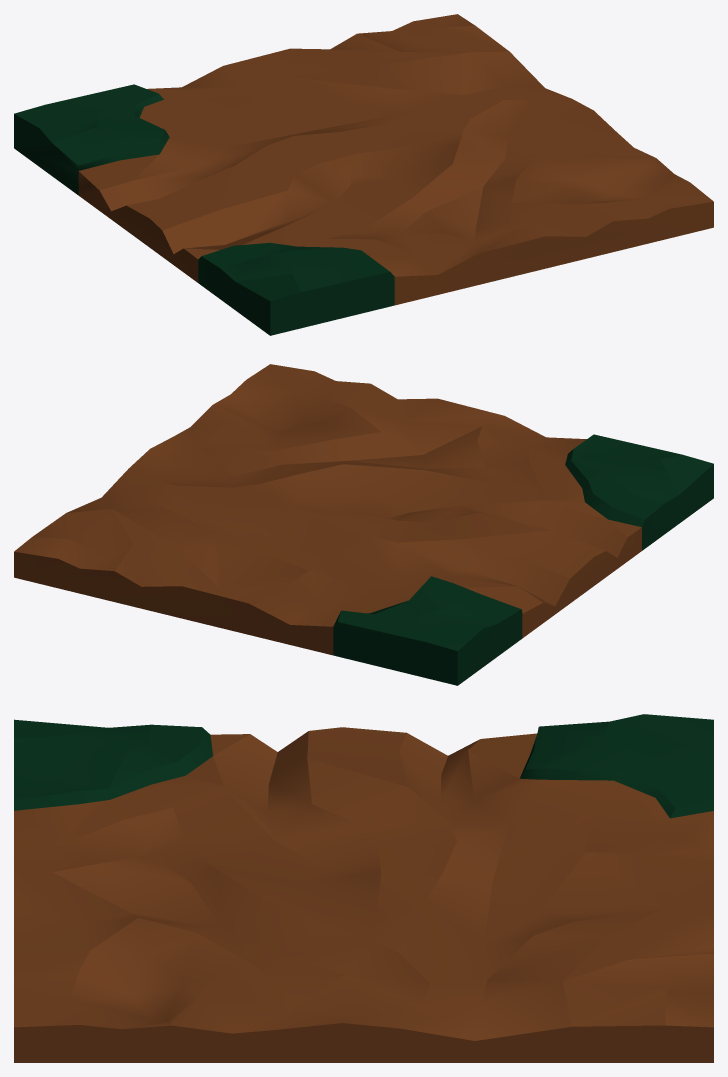
File: Ground_Road_Entrance_L_1.fbx
3 views of the same model, one above another, from view 1: azimuth 30°, elevation 25°; view 2: azimuth 150°, elevation 25°; view 3: azimuth 270°, elevation 25° (orthographic). The views are drawn at different scales.
Visible parts, largest first — view 1: Ground_Road_Entrance_L_1; view 2: Ground_Road_Entrance_L_1; view 3: Ground_Road_Entrance_L_1.
Boxes of the visible parts, <box> form: Ground_Road_Entrance_L_1: <box>14,14,713,335</box>; Ground_Road_Entrance_L_1: <box>14,364,713,685</box>; Ground_Road_Entrance_L_1: <box>14,714,713,1062</box>.
Size of the model in its own units: 147 by 13.39 by 147.
